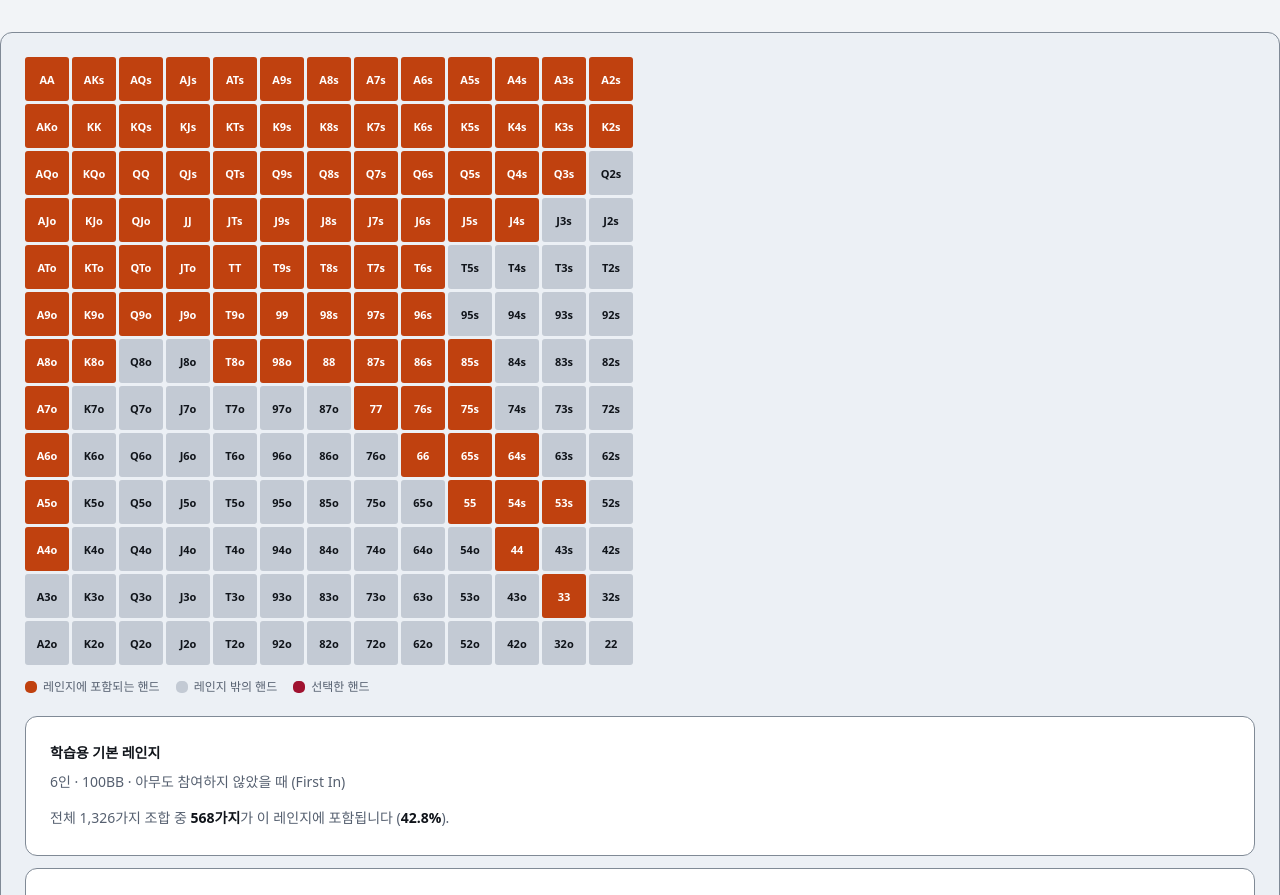
Test: RangeMatrixMini › shows the tapped hand’s detail when selection is on
Click the button "AKs ": (94,79) left=72, top=57, right=116, bottom=101
(page scrolled)
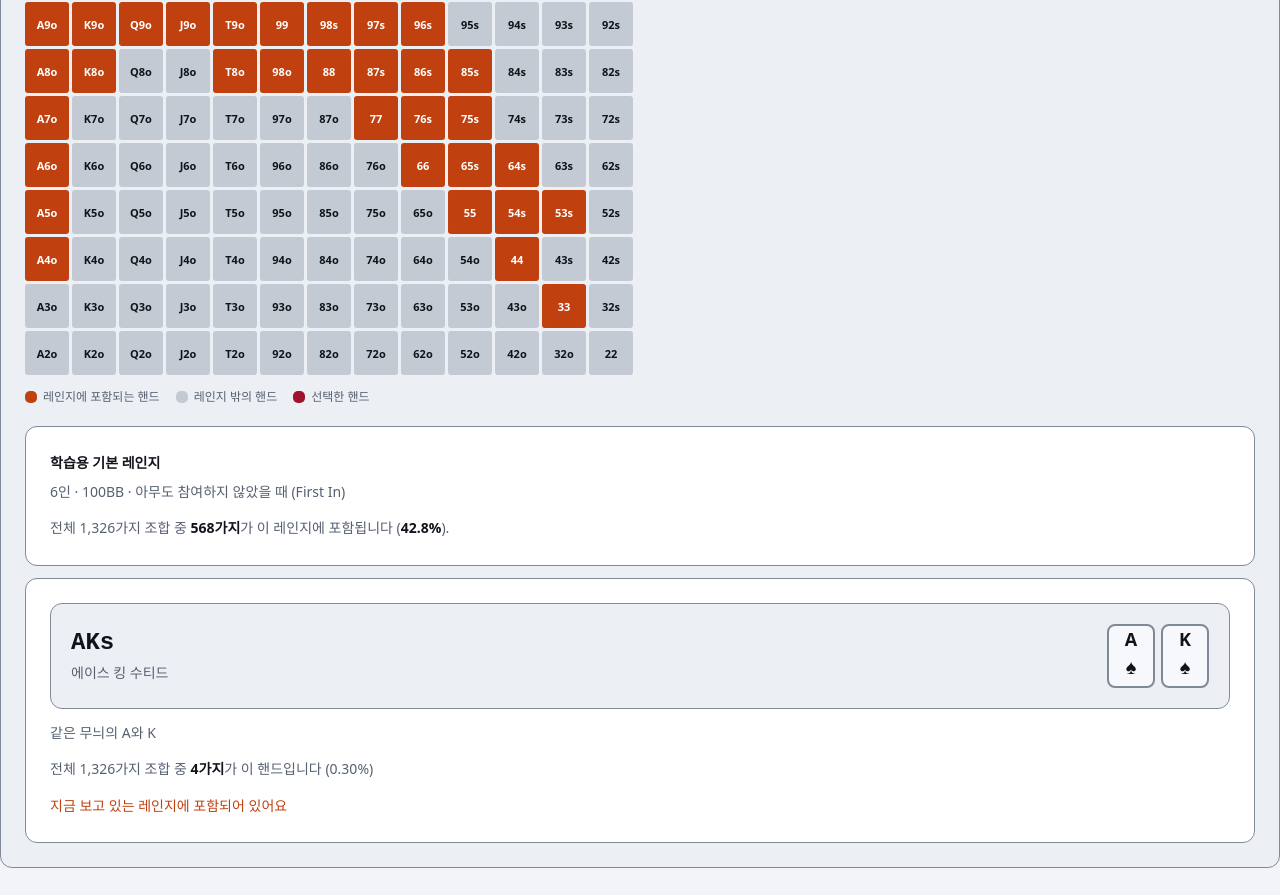
Check: the text "에이스 킹 수티드" is shown, box left=71, top=661, right=168, bottom=686
